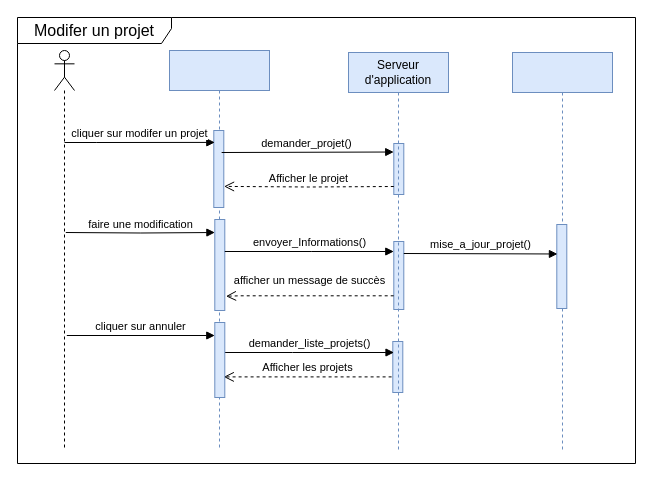
Image size: 653x481. Some labels were removed from this diagram. The centre of each missing label's shape, as x and y in pixels:
IHM: (x=219, y=250)
Serveur de base de données: (x=562, y=252)
